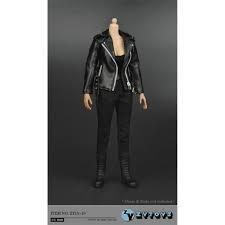jacket: (85, 32, 144, 97)
pants: (95, 89, 137, 166)
